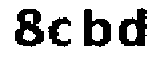8: (12, 6, 45, 52)
b: (82, 5, 114, 53)
c: (48, 15, 75, 52)
d: (119, 3, 150, 49)
